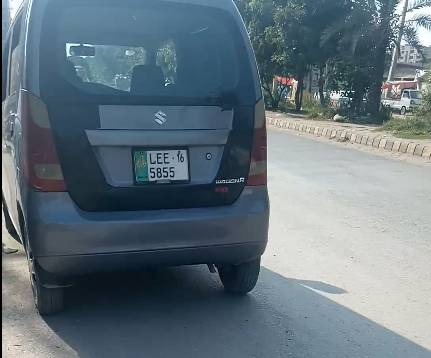number_plate: (128, 147, 194, 184)
